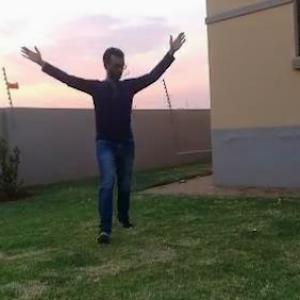takeoff: (1, 8, 188, 249)
